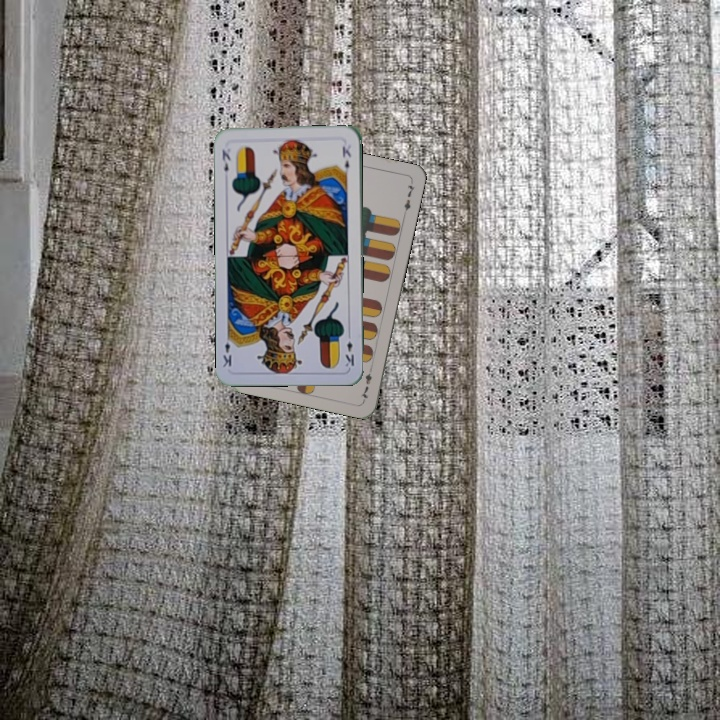E7: (356, 363, 375, 403)
EK: (341, 328, 357, 369), (218, 146, 233, 174)
